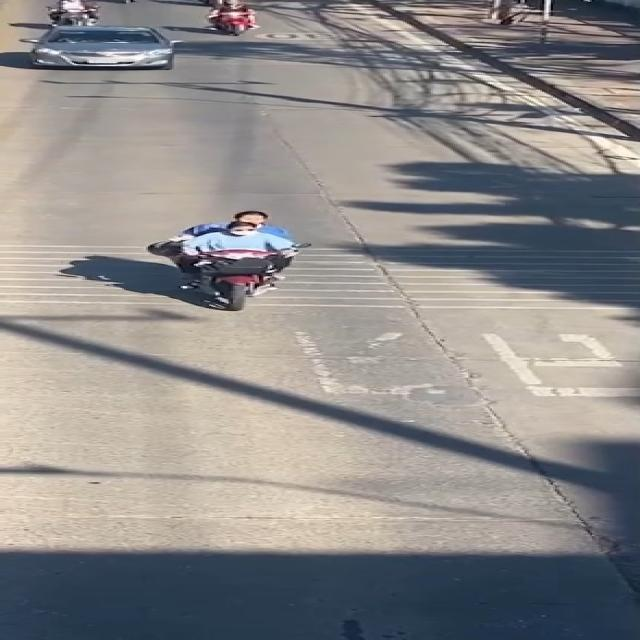car: (9, 21, 202, 80)
